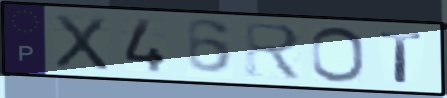4: (121, 16, 170, 74)
6: (185, 16, 235, 81)
O: (309, 25, 368, 84)
R: (242, 20, 306, 83)
T: (377, 29, 426, 85)
X: (51, 11, 112, 73)
